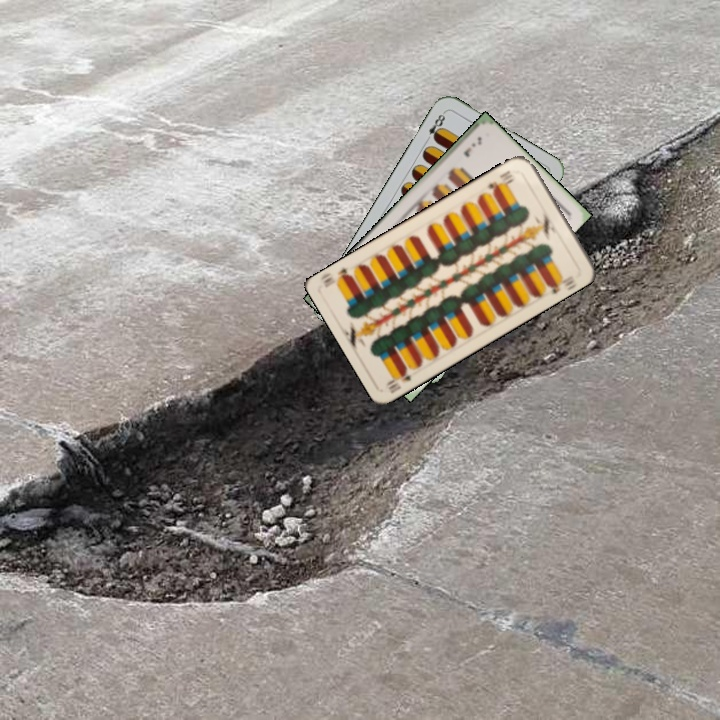E10: (382, 365, 414, 396), (483, 166, 515, 195)
E7: (459, 132, 484, 160)
E8: (421, 108, 448, 144)
